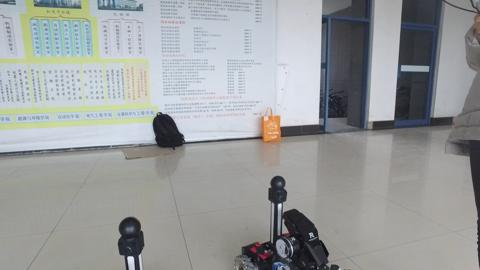bag: (149, 110, 187, 152), (256, 104, 287, 144)
chariot: (230, 169, 346, 270)
